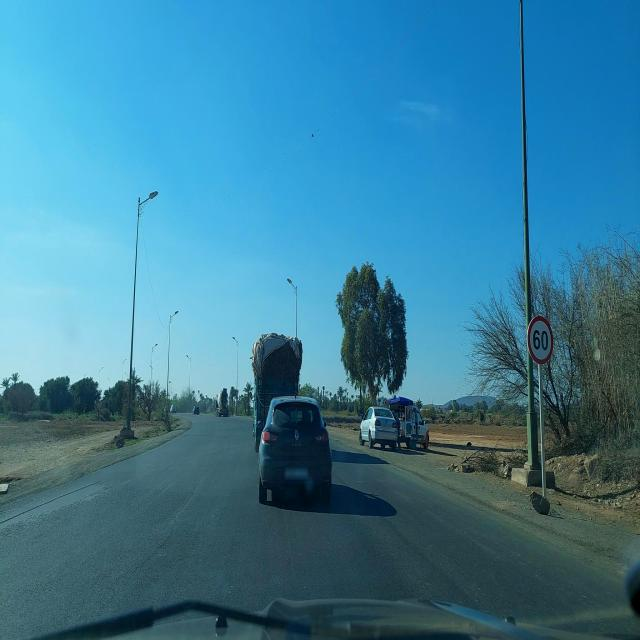car: (257, 394, 333, 505), (385, 396, 430, 452), (359, 406, 401, 450), (193, 403, 200, 415)
